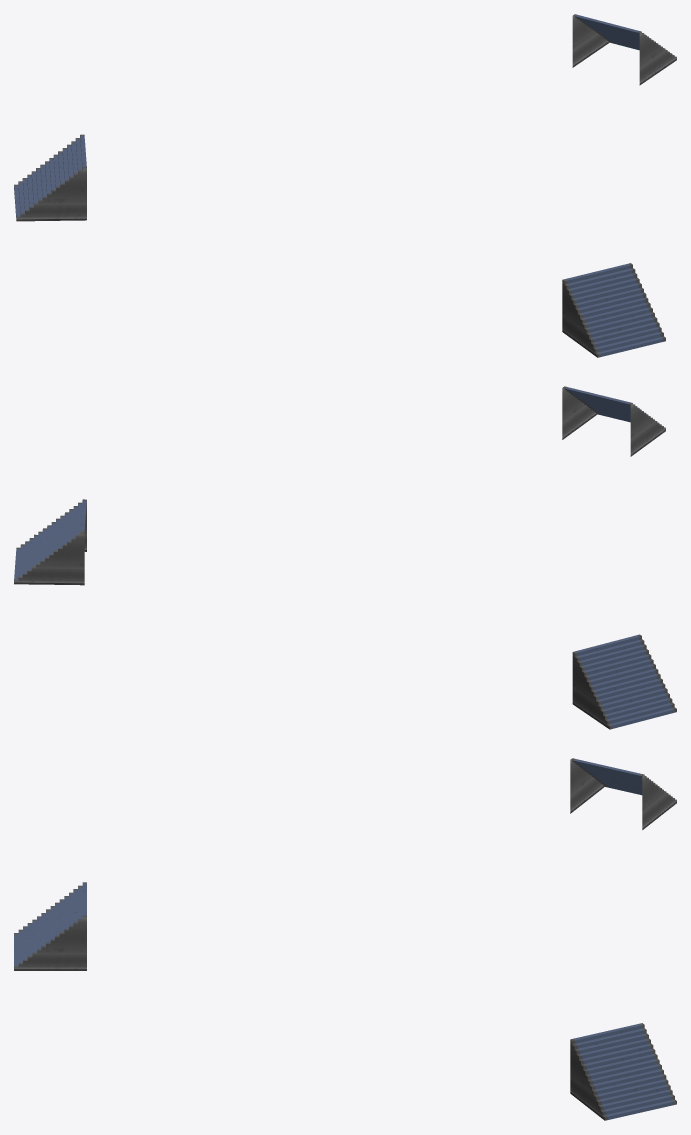
The model's file is Stairs.fbx.
3 views of the same model, one above another, from view 1: azimuth 30°, elevation 25°; view 2: azimuth 150°, elevation 25°; view 3: azimuth 270°, elevation 25° (orthographic). The views are drawn at different scales.
Parts seen in each view (by area): view 1: Stairs; view 2: Stairs; view 3: Stairs.
Boxes of the visible parts, box(x1,y1,x2,y2) form: Stairs: box(14, 14, 676, 357); Stairs: box(14, 386, 676, 729); Stairs: box(14, 758, 676, 1120).
Size of the model in its own units: 58.42 by 4.42 by 49.01.
